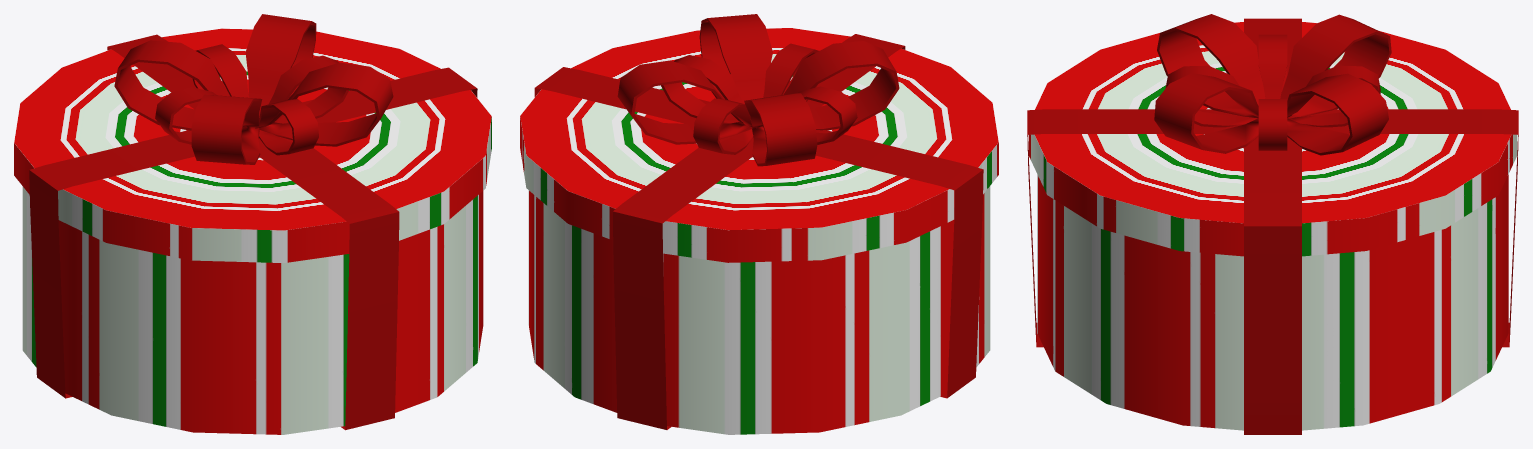
File: gift 03.fbx
3 views of the same model, side by side, from view 1: azimuth 30°, elevation 25°; view 2: azimuth 150°, elevation 25°; view 3: azimuth 270°, elevation 25° (orthographic).
Parts seen in each view (by area): view 1: gift_round, ribbon, Gift03; view 2: gift_round, ribbon, Gift03; view 3: gift_round, Gift03, ribbon.
Part boxes in pixels (x1,y1,x2,y2): gift_round: [14, 28, 491, 434]; ribbon: [29, 34, 477, 430]; Gift03: [114, 14, 393, 164]; gift_round: [520, 28, 998, 434]; ribbon: [534, 34, 983, 429]; Gift03: [617, 14, 899, 166]; gift_round: [1028, 22, 1517, 430]; Gift03: [1154, 14, 1391, 155]; ribbon: [1027, 18, 1518, 434].
Size of the model in its own units: 42.21 by 26.56 by 42.21.
Materials: 2 (1 with a texture image).
